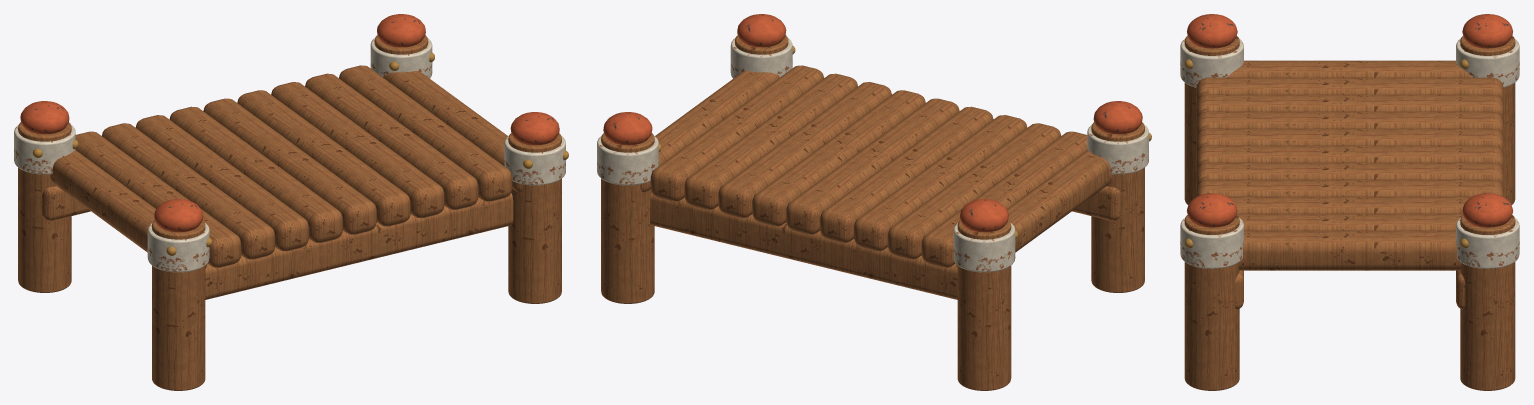
File: S8_木码头_分享包版.glb
3 views of the same model, side by side, from view 1: azimuth 30°, elevation 25°; view 2: azimuth 150°, elevation 25°; view 3: azimuth 270°, elevation 25° (orthographic). The views are drawn at different scales.
Visible parts, largest first — view 1: Structural cross beam, Round oak piling, Round oak piling.002, Rounded dock plank.009, Rounded dock plank.008, Rounded dock plank.003, Rounded dock plank.007, Rounded dock plank.002, Rounded dock plank.006, Rounded dock plank.005, Rounded dock plank.004, Round oak piling.001 (+13 smaller); view 2: Structural cross beam.001, Round oak piling.001, Round oak piling.003, Rounded dock plank.006, Rounded dock plank.007, Rounded dock plank.009, Rounded dock plank.008, Rounded dock plank.002, Rounded dock plank.005, Rounded dock plank.003, Rounded dock plank.004, Round oak piling (+13 smaller); view 3: Rounded dock plank.010, Round oak piling.002, Round oak piling.003, Rounded dock plank.001, Rounded dock plank.002, Rounded dock plank.003, Rounded dock plank.004, Rounded dock plank.005, Rounded dock plank.006, Rounded dock plank.007, Rounded dock plank.008, Rounded dock plank (+13 smaller).
Part boxes in pixels (x1,y1,x2,y2): Structural cross beam: [205, 193, 513, 299]; Round oak piling: [152, 220, 205, 390]; Round oak piling.002: [508, 133, 561, 303]; Rounded dock plank.009: [339, 65, 512, 201]; Rounded dock plank.008: [305, 73, 478, 209]; Rounded dock plank.003: [135, 115, 309, 251]; Rounded dock plank.007: [271, 82, 444, 218]; Rounded dock plank.002: [102, 123, 275, 259]; Rounded dock plank.006: [237, 90, 410, 226]; Rounded dock plank.005: [203, 98, 376, 234]; Rounded dock plank.004: [169, 106, 342, 242]; Round oak piling.001: [18, 122, 71, 292]; Structural cross beam.001: [650, 193, 957, 299]; Round oak piling.001: [957, 220, 1011, 390]; Round oak piling.003: [601, 133, 654, 303]; Rounded dock plank.006: [752, 90, 925, 226]; Rounded dock plank.007: [718, 82, 891, 218]; Rounded dock plank.009: [650, 65, 823, 201]; Rounded dock plank.008: [684, 73, 857, 209]; Rounded dock plank.002: [887, 123, 1061, 259]; Rounded dock plank.005: [786, 98, 959, 234]; Rounded dock plank.003: [854, 115, 1027, 251]; Rounded dock plank.004: [820, 106, 993, 242]; Round oak piling: [1091, 122, 1144, 292]; Rounded dock plank.010: [1238, 230, 1461, 270]; Round oak piling.002: [1184, 215, 1239, 390]; Round oak piling.003: [1460, 215, 1515, 390]; Rounded dock plank.001: [1196, 77, 1503, 104]; Rounded dock plank.002: [1196, 94, 1503, 121]; Rounded dock plank.003: [1196, 111, 1503, 138]; Rounded dock plank.004: [1196, 128, 1503, 155]; Rounded dock plank.005: [1196, 145, 1503, 172]; Rounded dock plank.006: [1196, 162, 1503, 189]; Rounded dock plank.007: [1196, 179, 1503, 196]; Rounded dock plank.008: [1228, 196, 1471, 213]; Rounded dock plank: [1227, 60, 1472, 77].
Size of the model in its own units: 2.3 by 0.955 by 1.6.
4 materials, 4 textured.
